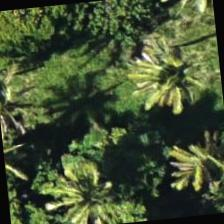Kelapa_Sawit: (121, 28, 220, 127), (144, 129, 223, 220), (46, 153, 145, 223)
